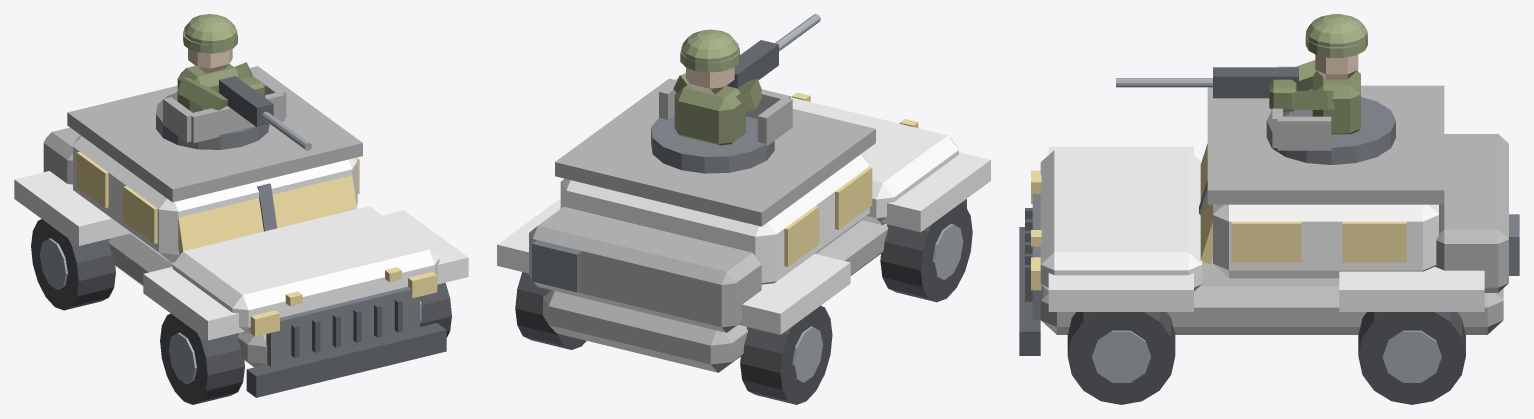
File: jeep.glb
3 views of the same model, side by side, from view 1: azimuth 30°, elevation 25°; view 2: azimuth 150°, elevation 25°; view 3: azimuth 270°, elevation 25° (orthographic). The views are drawn at different scales.
Visible parts, largest first — view 1: main, turret; view 2: main, turret; view 3: main, turret.
Part boxes in pixels (x1,y1,x2,y2): main: (14,66,468,404); turret: (156,14,311,150); main: (497,78,990,404); turret: (651,14,820,173); main: (1019,85,1519,404); turret: (1116,14,1395,164).
Size of the model in its own units: 0.63 by 0.6564 by 0.93.
